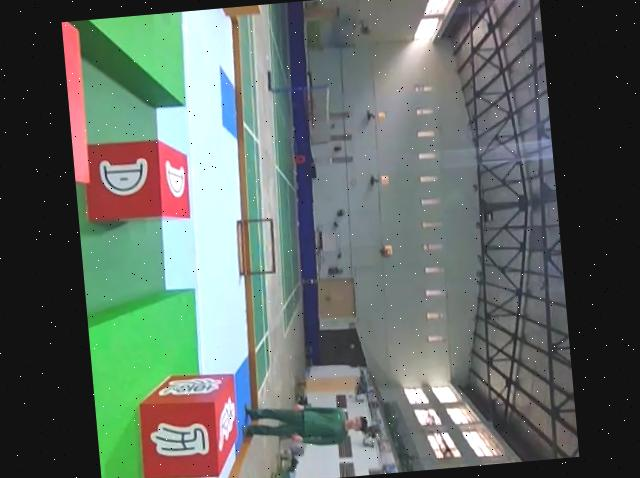R2 Fake: (132, 370, 241, 478)
R2 Real: (80, 132, 197, 227)
